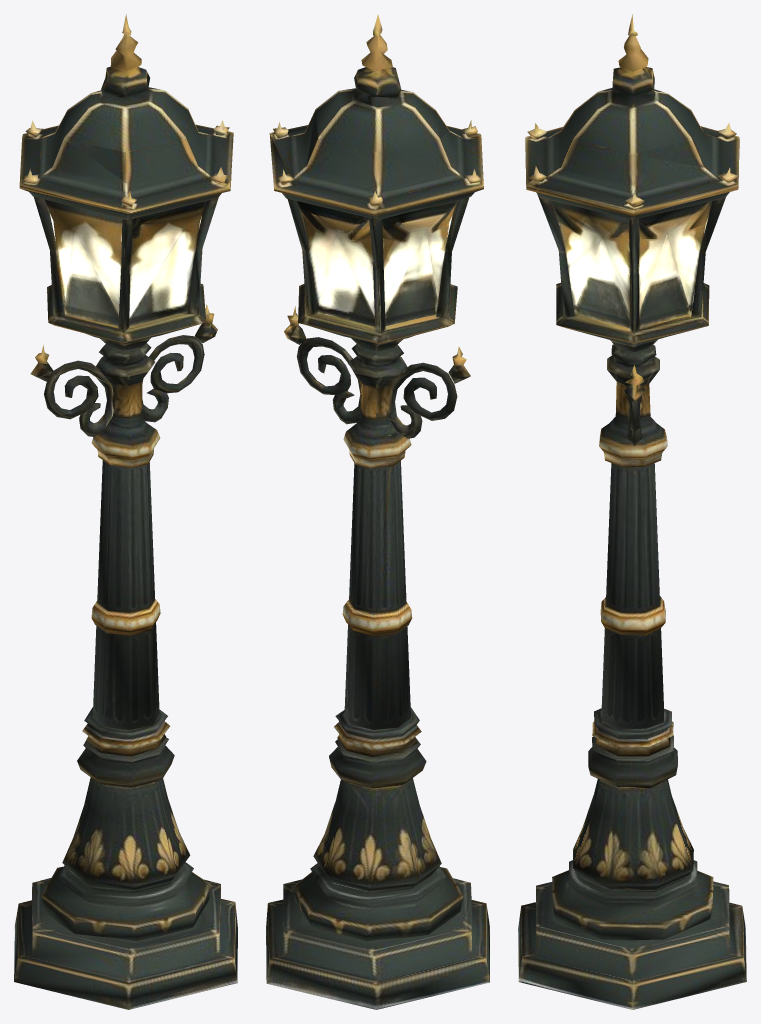
Rendered from kit_street_lamp.glb.
3 views of the same model, side by side, from view 1: azimuth 30°, elevation 25°; view 2: azimuth 150°, elevation 25°; view 3: azimuth 270°, elevation 25° (orthographic).
Parts seen in each view (by area): view 1: mesh_node; view 2: mesh_node; view 3: mesh_node.
Part boxes in pixels (bbox=[...]): mesh_node: bbox=[14, 14, 237, 1009]; mesh_node: bbox=[266, 14, 489, 1009]; mesh_node: bbox=[518, 14, 746, 1009].
Bounding box in the file's own units: 1.25 × 5 × 1.1.
Materials: 1 (1 with a texture image).
